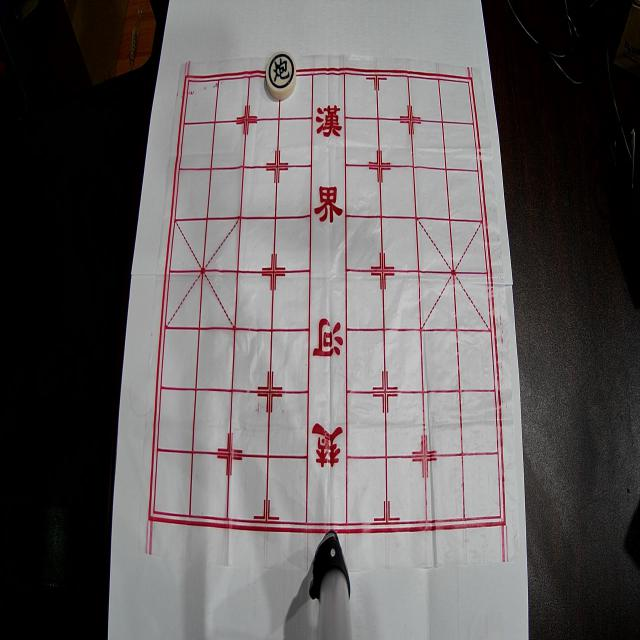black-cannon: (266, 51, 296, 100)
